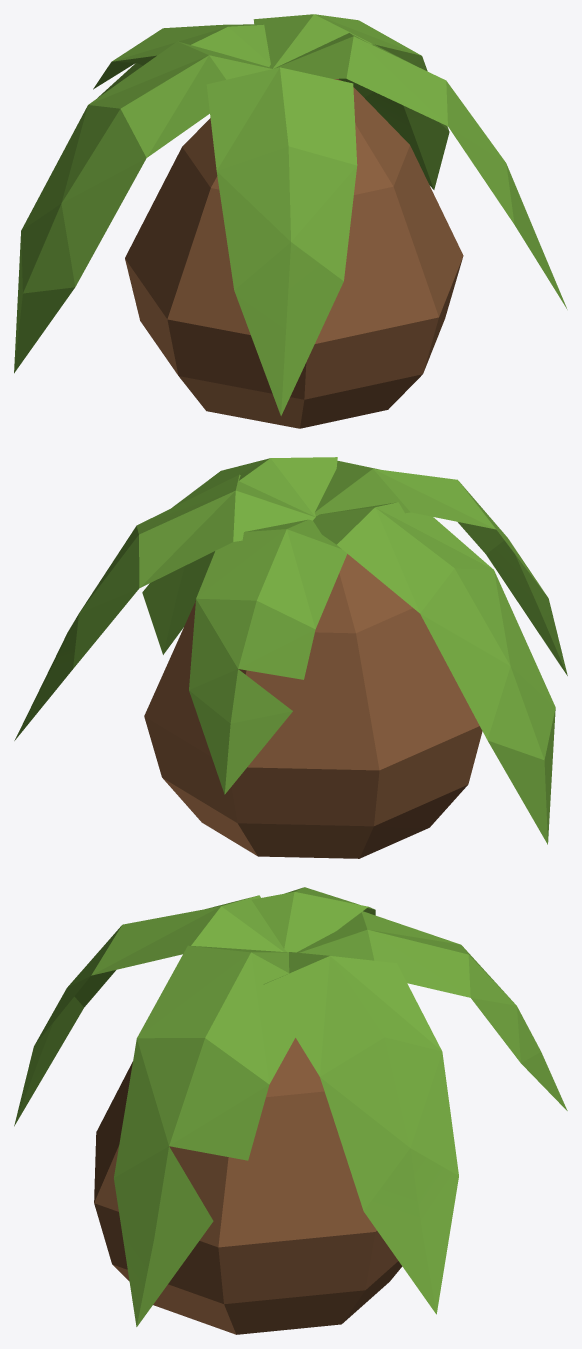
The model's file is palm_small__2_.obj.
The picture shows the model from 3 angles, top to bottom: view 1: azimuth 30°, elevation 25°; view 2: azimuth 150°, elevation 25°; view 3: azimuth 270°, elevation 25°; orthographic projection. The views are drawn at different scales.
Parts seen in each view (by area): view 1: palm_small__2__Scene.011; view 2: palm_small__2__Scene.011; view 3: palm_small__2__Scene.011.
Part boxes in pixels (x1,y1,x2,y2): palm_small__2__Scene.011: (14,14,567,428); palm_small__2__Scene.011: (14,457,567,858); palm_small__2__Scene.011: (14,887,567,1334).
Bounding box in the file's own units: 2.57 × 1.75 × 2.44.
